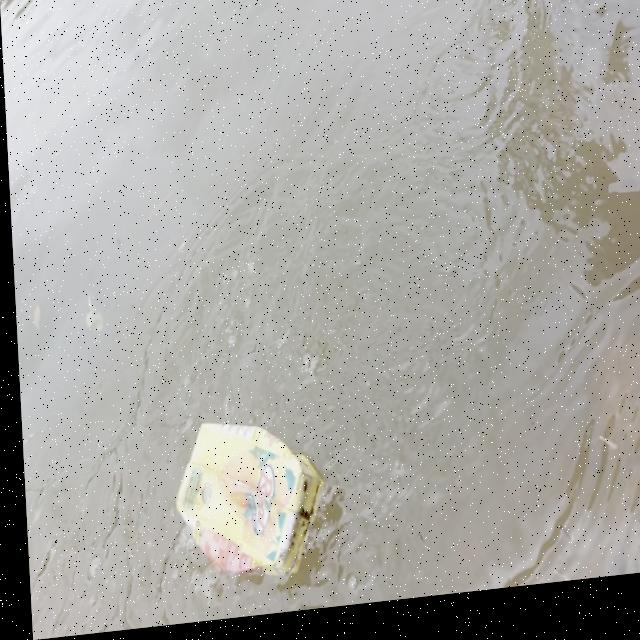paper: (149, 418, 336, 608)
